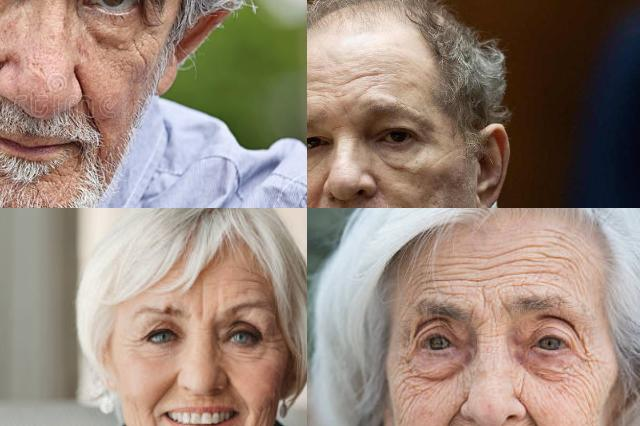bunny_line: (374, 152, 406, 174), (512, 375, 528, 401)
chin: (42, 164, 66, 192)
crows_feet: (574, 345, 594, 377), (397, 346, 413, 386), (140, 14, 162, 38), (264, 332, 284, 356), (130, 333, 146, 353)
forehead: (522, 243, 570, 287), (418, 260, 454, 292), (473, 256, 511, 286), (334, 64, 376, 86), (241, 266, 265, 292)
frown_line: (475, 293, 511, 320), (197, 284, 207, 323)
gummy_smile: (74, 76, 96, 124), (153, 371, 183, 403), (219, 368, 247, 400), (435, 402, 464, 426), (523, 408, 550, 426)
masseter: (130, 42, 150, 70), (243, 413, 266, 426)
sad_smile: (145, 414, 161, 426)
